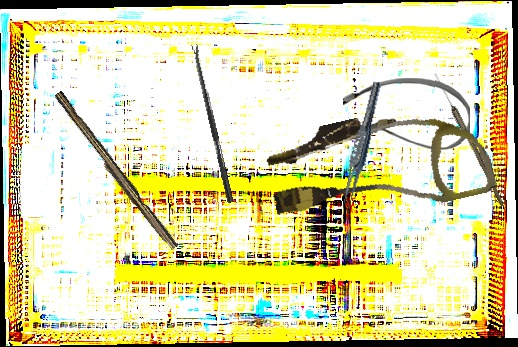Cannula: (260, 90, 498, 240), (342, 76, 471, 153)
Scalpel Handle: (49, 90, 181, 253)
Surgical Spoon: (431, 72, 508, 207), (191, 43, 235, 204)
Tissue Forceps: (338, 79, 385, 212)
